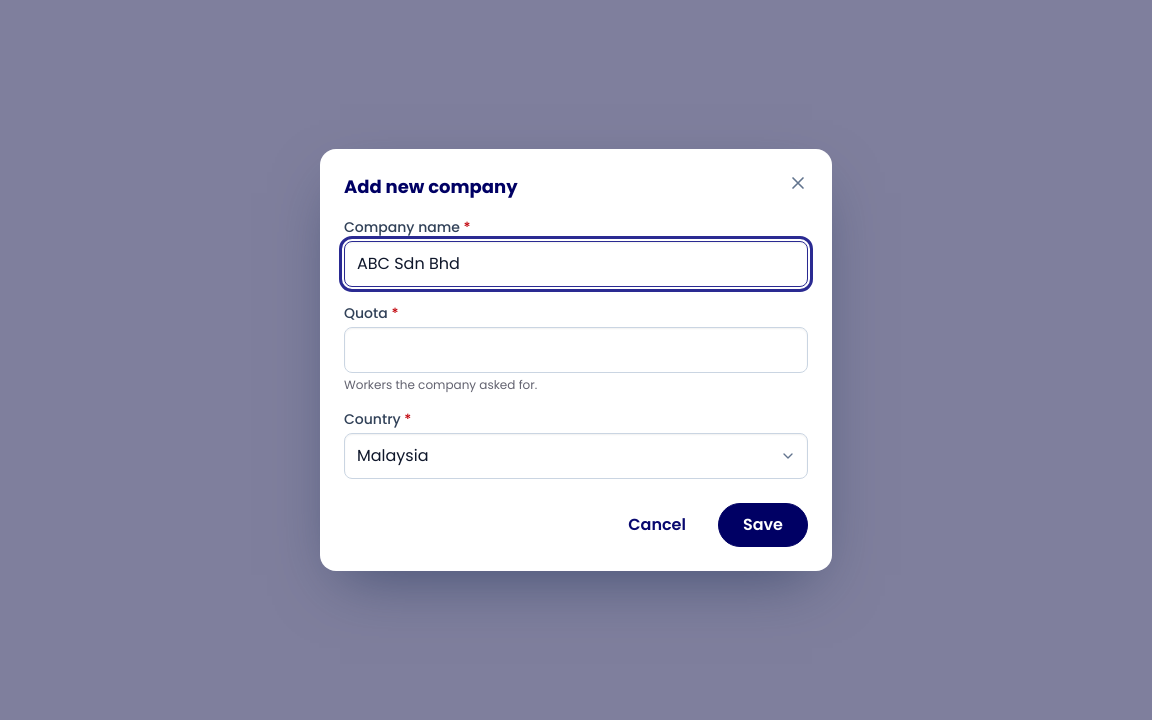
Test: QuickAddModal (company) › checks the quota 0: The quota must be at least 1.
Type "0" into the number field labelled "Quota *" at (576, 350), box [344,327,808,373]
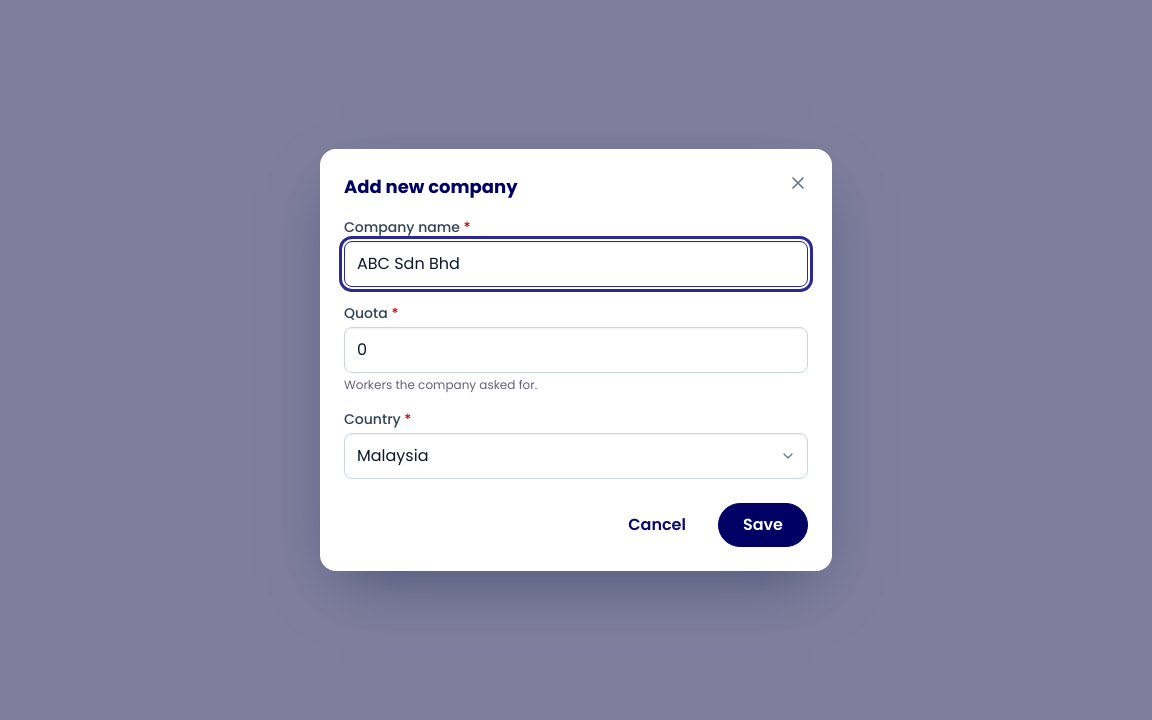
Submit the form, box [344,217,808,547]
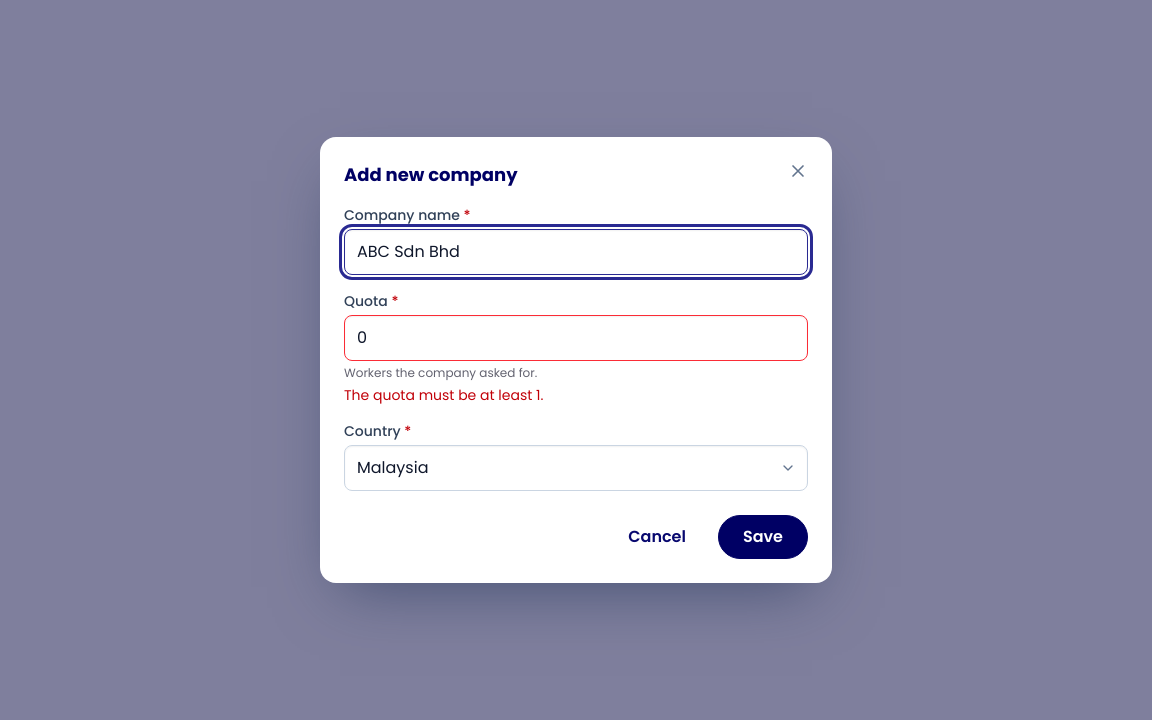
Expected: the element that starts with "Quota" shows "The quota must be at least 1.", [344,385,544,405]
